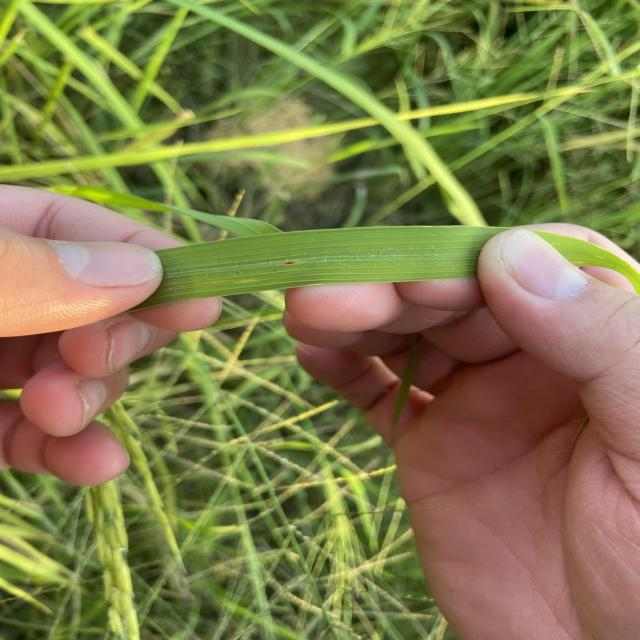Dom nau: (285, 262, 295, 264)
